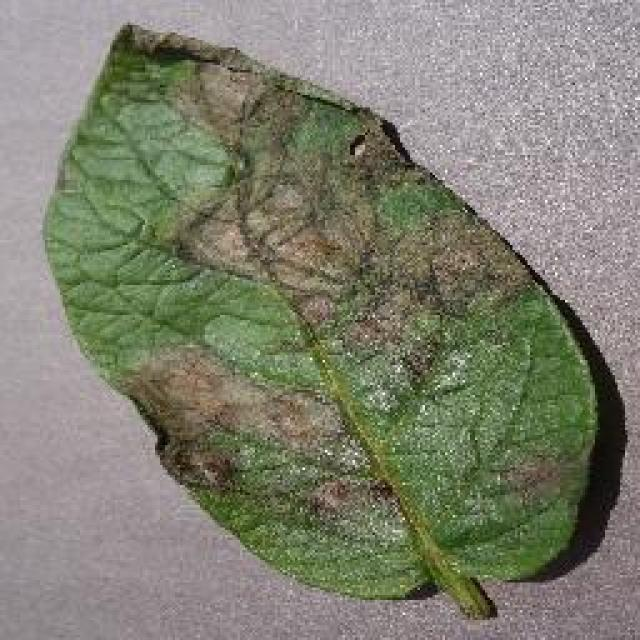late_blight: (38, 18, 610, 620)
